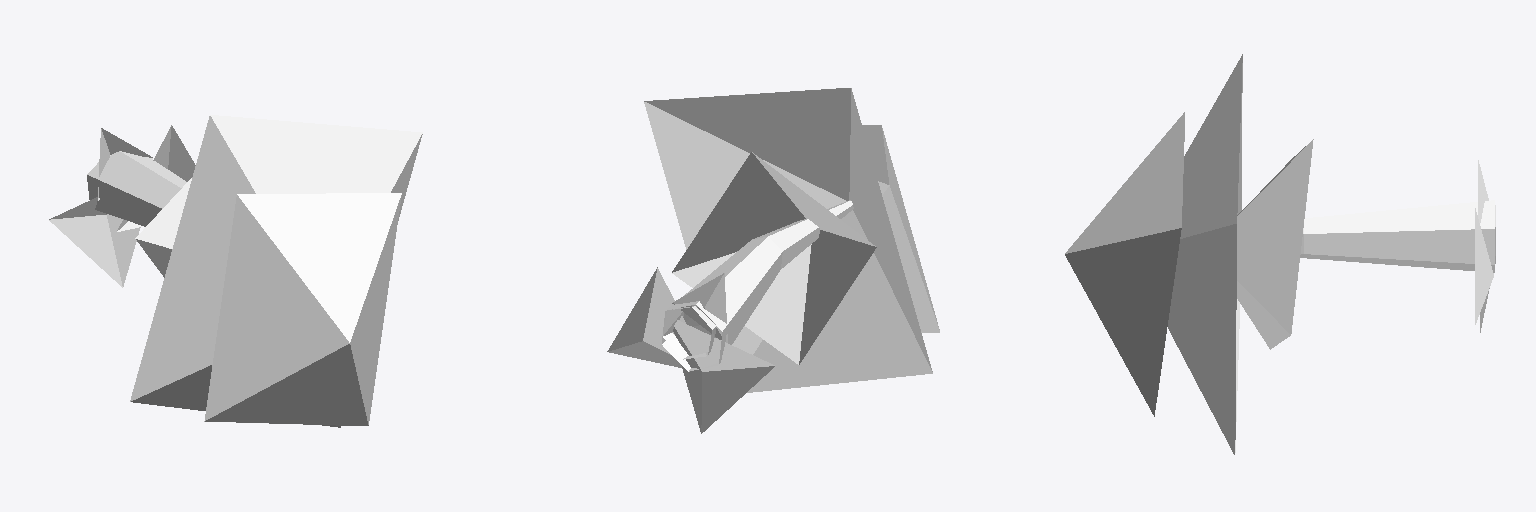
File: AshenTree0.OBJ
3 renders of one model, left to right at view 1: azimuth 30°, elevation 25°; view 2: azimuth 150°, elevation 25°; view 3: azimuth 270°, elevation 25°, orthographic.
Visible parts, largest first — view 1: AshenTree0, Converted object 1; view 2: AshenTree0, Converted object 1; view 3: AshenTree0, Converted object 1.
Boxes of the visible parts, box(x1,y1,x2,y2) form: AshenTree0: box(87, 115, 422, 427); Converted object 1: box(49, 125, 195, 287); AshenTree0: box(644, 88, 939, 392); Converted object 1: box(607, 267, 774, 433); AshenTree0: box(1065, 54, 1494, 454); Converted object 1: box(1475, 160, 1495, 332).
Size of the model in its own units: 255 by 285 by 326.